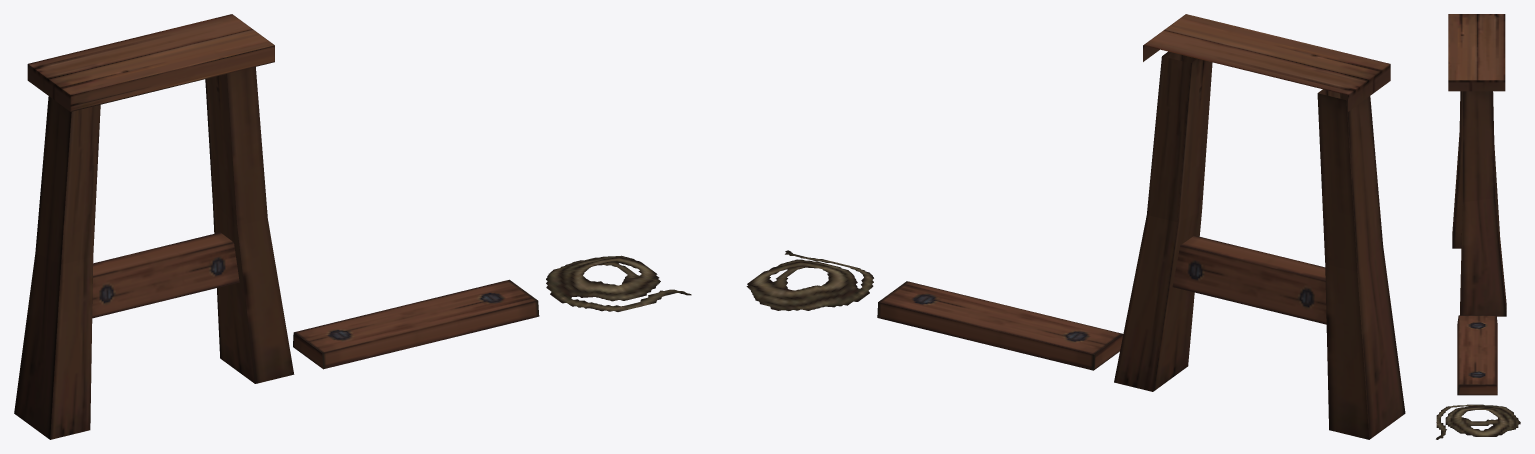
File: 2_YiZhan_JiaoShouJia_02.FBX
3 views of the same model, side by side, from view 1: azimuth 30°, elevation 25°; view 2: azimuth 150°, elevation 25°; view 3: azimuth 270°, elevation 25° (orthographic). The views are drawn at different scales.
Visible parts, largest first — view 1: 2_YiZhan_JiaoShouJia_02_01, 2_YiZhan_JiaoShouJia_02_02, 2_YiZhan_JiaoShouJia_02_03; view 2: 2_YiZhan_JiaoShouJia_02_01, 2_YiZhan_JiaoShouJia_02_02, 2_YiZhan_JiaoShouJia_02_03; view 3: 2_YiZhan_JiaoShouJia_02_01, 2_YiZhan_JiaoShouJia_02_02, 2_YiZhan_JiaoShouJia_02_03.
Boxes of the visible parts, bbox=[...] form: 2_YiZhan_JiaoShouJia_02_01: bbox=[14, 14, 294, 439]; 2_YiZhan_JiaoShouJia_02_02: bbox=[293, 279, 539, 369]; 2_YiZhan_JiaoShouJia_02_03: bbox=[546, 255, 691, 311]; 2_YiZhan_JiaoShouJia_02_01: bbox=[1114, 14, 1405, 439]; 2_YiZhan_JiaoShouJia_02_02: bbox=[877, 281, 1123, 370]; 2_YiZhan_JiaoShouJia_02_03: bbox=[746, 250, 873, 310]; 2_YiZhan_JiaoShouJia_02_01: bbox=[1448, 14, 1506, 316]; 2_YiZhan_JiaoShouJia_02_02: bbox=[1457, 315, 1497, 395]; 2_YiZhan_JiaoShouJia_02_03: bbox=[1436, 404, 1520, 439].
Bounding box in the file's own units: 755 × 392 × 135.
Materials: 1 (1 with a texture image).
